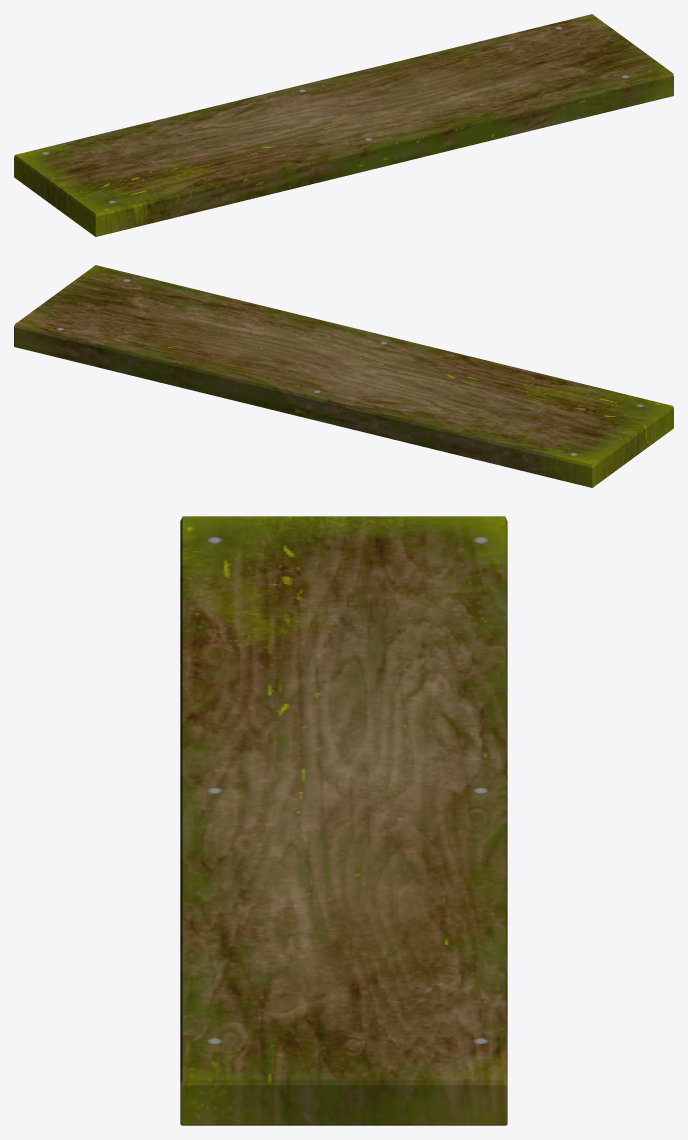
The model's file is PNW Pathway_Plank_D_No Grip.glb.
3 renders of one model, top to bottom at view 1: azimuth 30°, elevation 25°; view 2: azimuth 150°, elevation 25°; view 3: azimuth 270°, elevation 25°, orthographic. The views are drawn at different scales.
Visible parts, largest first — view 1: Plank D_No Grip; view 2: Plank D_No Grip; view 3: Plank D_No Grip.
Part boxes in pixels (bbox=[...]): Plank D_No Grip: bbox=[14, 14, 673, 236]; Plank D_No Grip: bbox=[14, 265, 673, 487]; Plank D_No Grip: bbox=[180, 516, 507, 1125].
Bounding box in the file's own units: 1.52 × 0.0577 × 0.372.
1 material, 1 textured.
